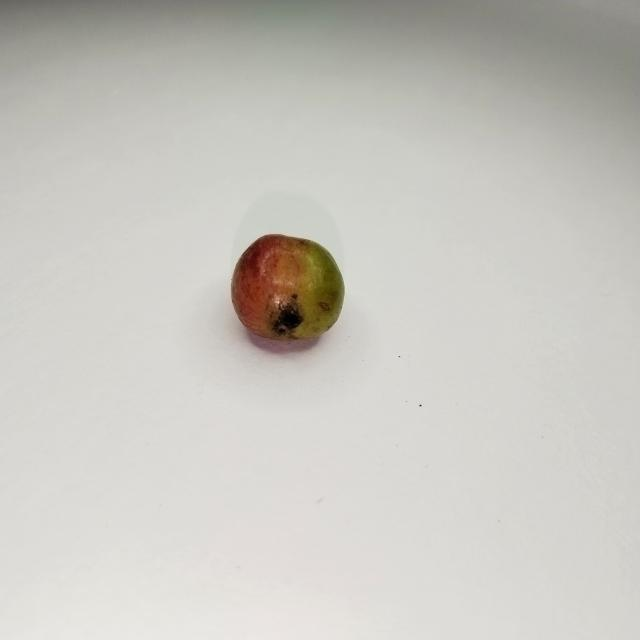Infectado: (229, 235, 347, 344)
